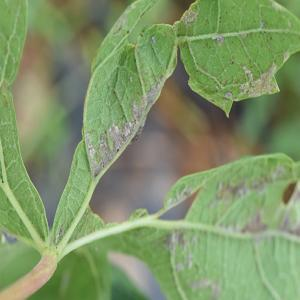Folha: (0, 0, 179, 300), (176, 0, 300, 120)
Fungo: (54, 73, 164, 245), (84, 73, 164, 177), (96, 99, 146, 168), (209, 164, 284, 208), (97, 132, 111, 160), (181, 3, 198, 24), (54, 224, 64, 244), (212, 34, 224, 46), (222, 90, 233, 103), (55, 232, 59, 245), (150, 36, 156, 44), (59, 226, 63, 237), (128, 75, 132, 83)
